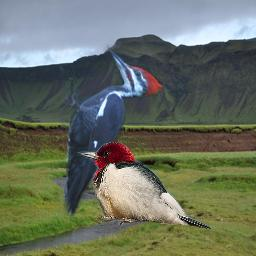Woodpecker: (60, 43, 163, 223), (77, 142, 213, 229)
